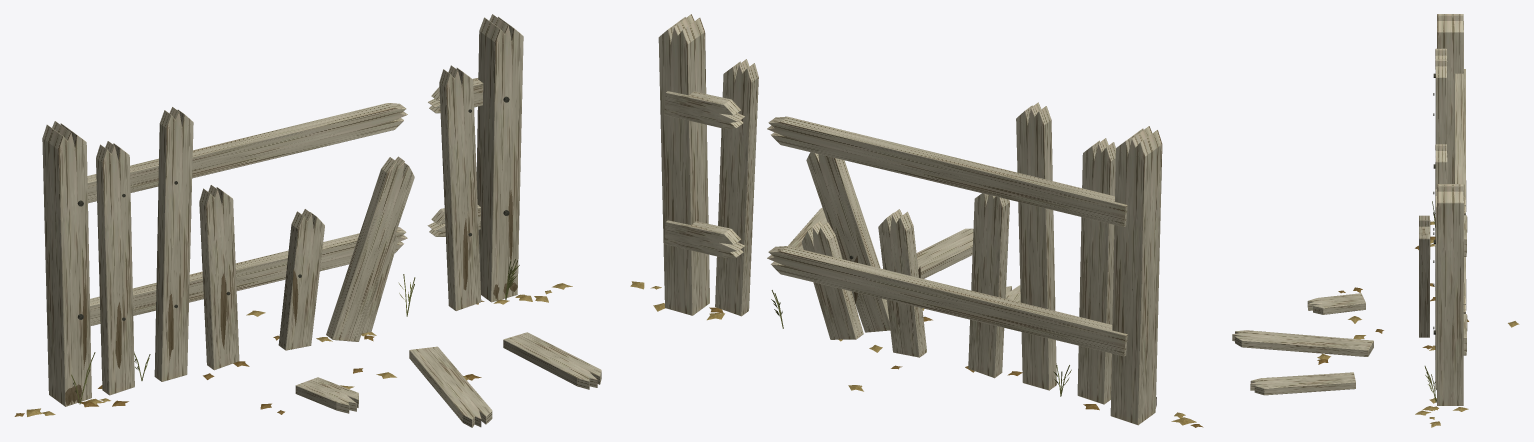
File: nb_fence_broken.glb
3 views of the same model, side by side, from view 1: azimuth 30°, elevation 25°; view 2: azimuth 150°, elevation 25°; view 3: azimuth 270°, elevation 25° (orthographic). The views are drawn at different scales.
Parts seen in each view (by area): view 1: Fence_Section_Broken_Body; view 2: Fence_Section_Broken_Body; view 3: Fence_Section_Broken_Body.
Part boxes in pixels (bbox=[...]): Fence_Section_Broken_Body: bbox=[14, 14, 601, 427]; Fence_Section_Broken_Body: bbox=[630, 14, 1203, 427]; Fence_Section_Broken_Body: bbox=[1232, 14, 1519, 427].
Size of the model in its own units: 2.86 by 1.35 by 1.61.
Materials: 1 (1 with a texture image).
